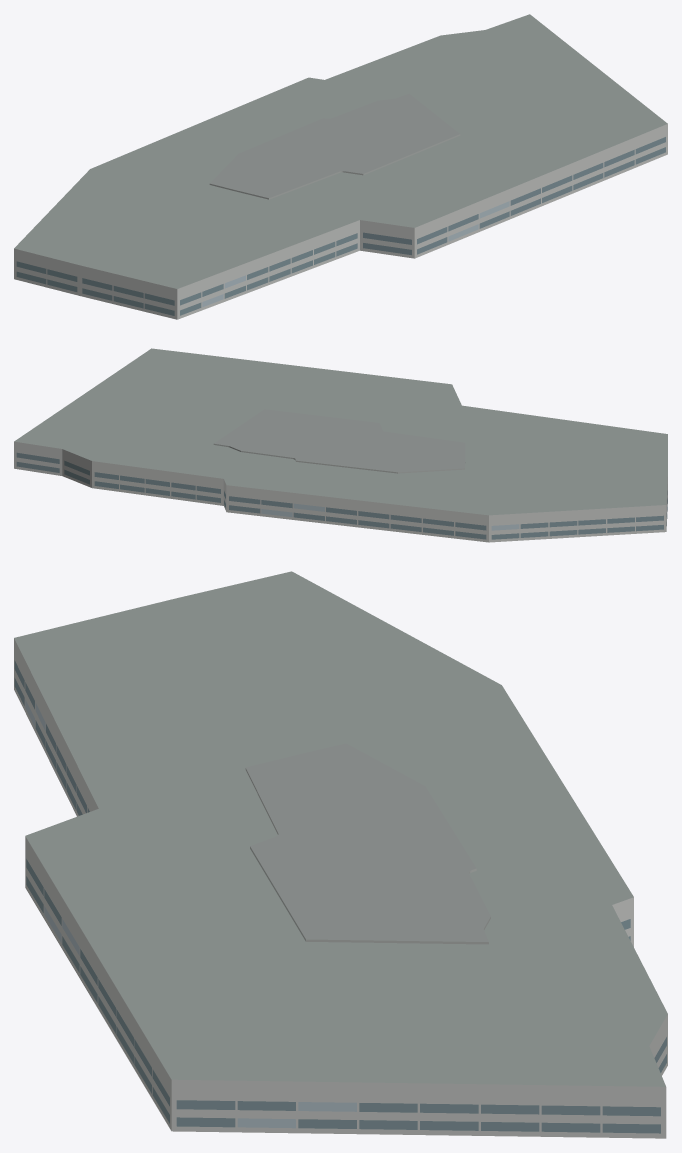
Rendered from landmark-b7d45bb8-a5a2-49af-ba37-ff494a27af5e.glb.
3 views of the same model, one above another, from view 1: azimuth 30°, elevation 25°; view 2: azimuth 150°, elevation 25°; view 3: azimuth 270°, elevation 25° (orthographic). The views are drawn at different scales.
Visible parts, largest first — view 1: landmark-b7d45bb8-a5a2-49af-ba37-ff494a27af5e; view 2: landmark-b7d45bb8-a5a2-49af-ba37-ff494a27af5e; view 3: landmark-b7d45bb8-a5a2-49af-ba37-ff494a27af5e.
Boxes of the visible parts, x1=… form: landmark-b7d45bb8-a5a2-49af-ba37-ff494a27af5e: x1=14, y1=14, x2=667, y2=319; landmark-b7d45bb8-a5a2-49af-ba37-ff494a27af5e: x1=14, y1=348, x2=667, y2=542; landmark-b7d45bb8-a5a2-49af-ba37-ff494a27af5e: x1=14, y1=571, x2=667, y2=1138.
Bounding box in the file's own units: 196 × 9.56 × 105.
